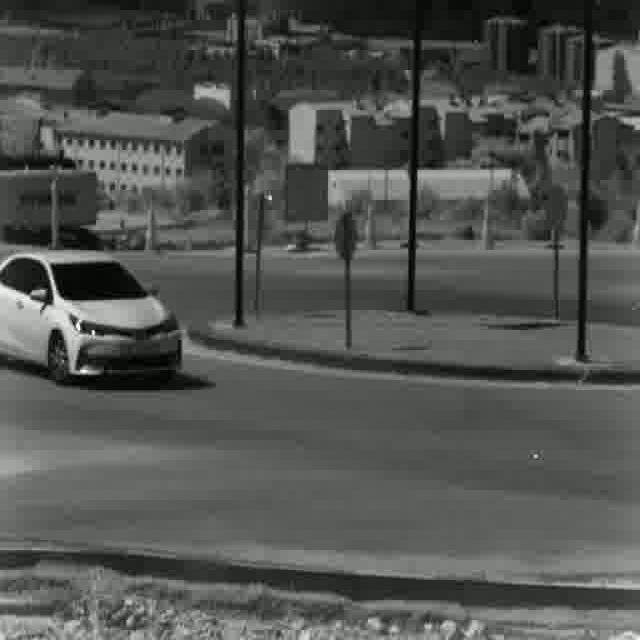Car: (0, 253, 181, 392)
